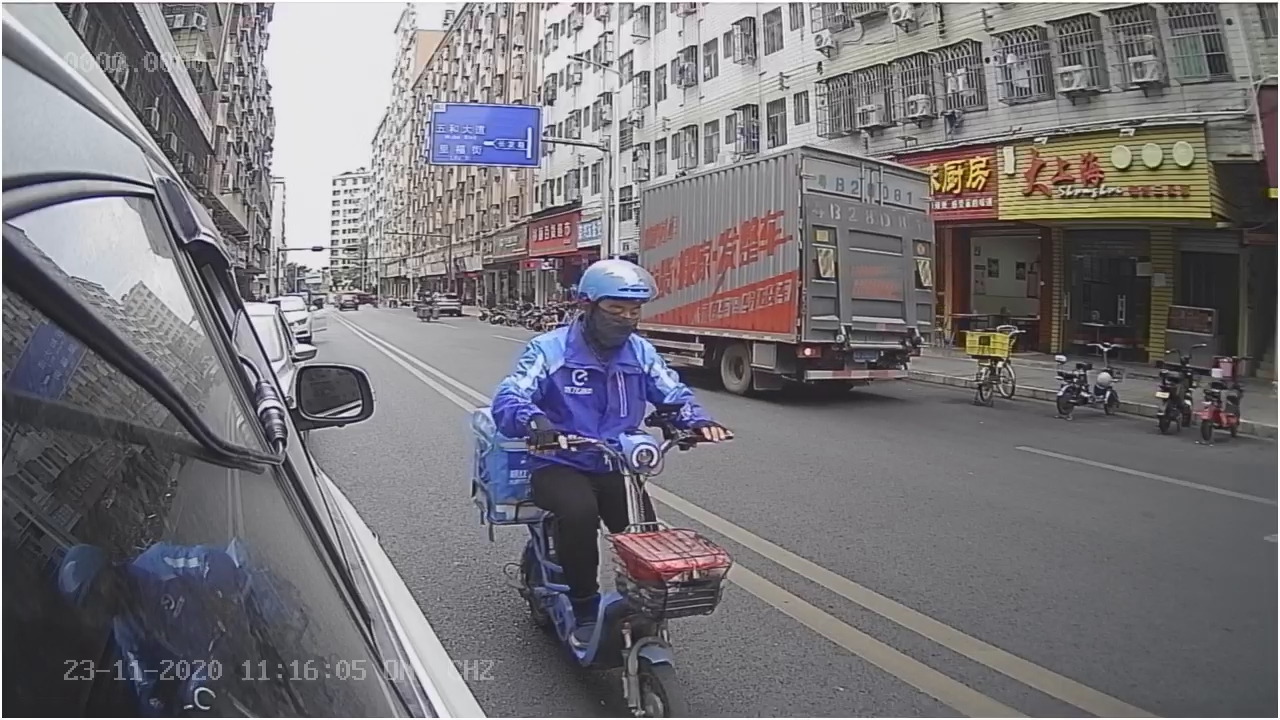person: (486, 254, 707, 417)
